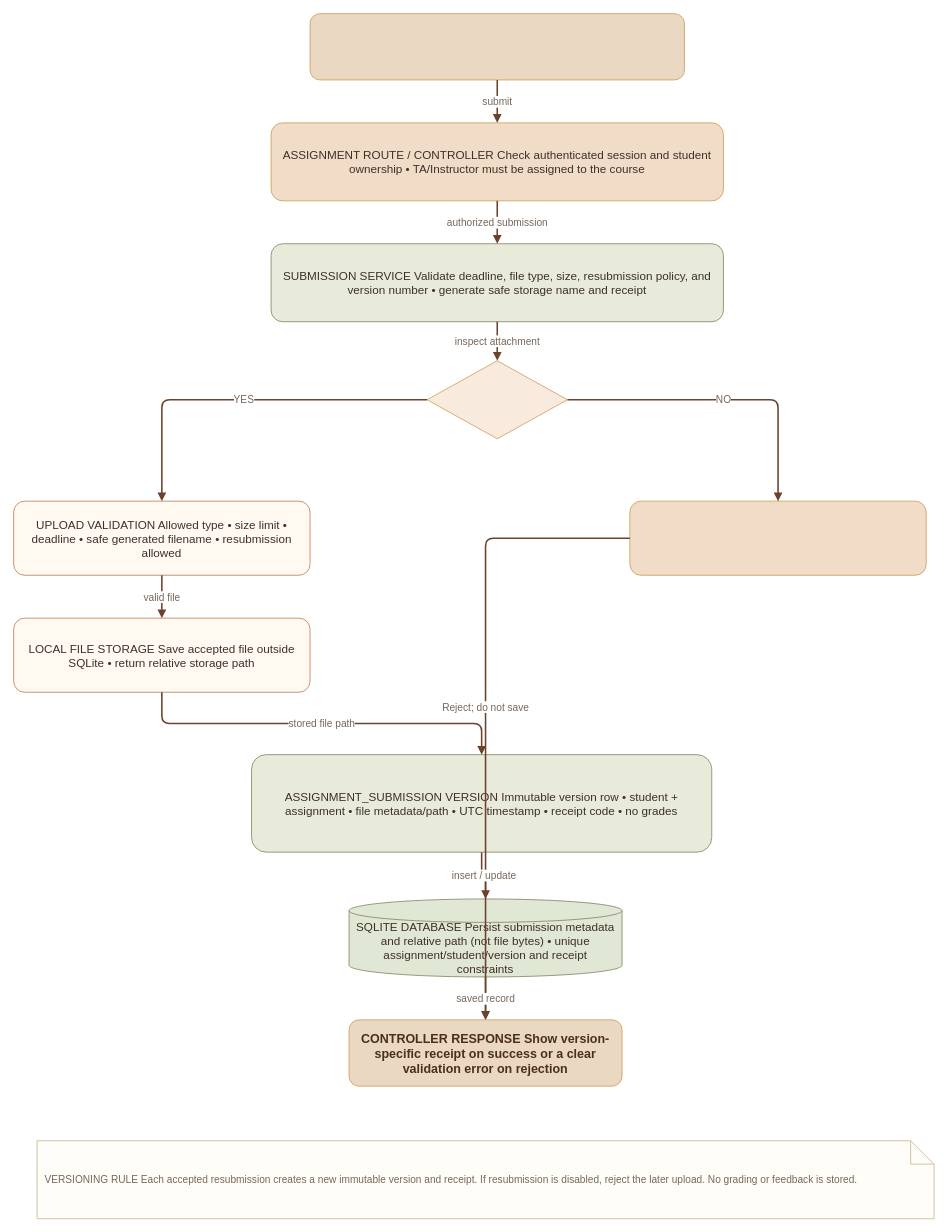
The diagram is 948 pixels wide and 1232 high, and some of its shapes have lost their labels. The shapes that lost their labels are listed below. From the top down, each one's box as (x1, y1, x2, y2) in pixels, then its label:
(309, 13, 684, 80): STUDENT BROWSER Selects an assignment and submits one final file
(426, 360, 567, 439): VALID FINAL FILE?
(629, 500, 926, 575): MISSING / INVALID FILE Reject • no accepted version row • no success receipt
